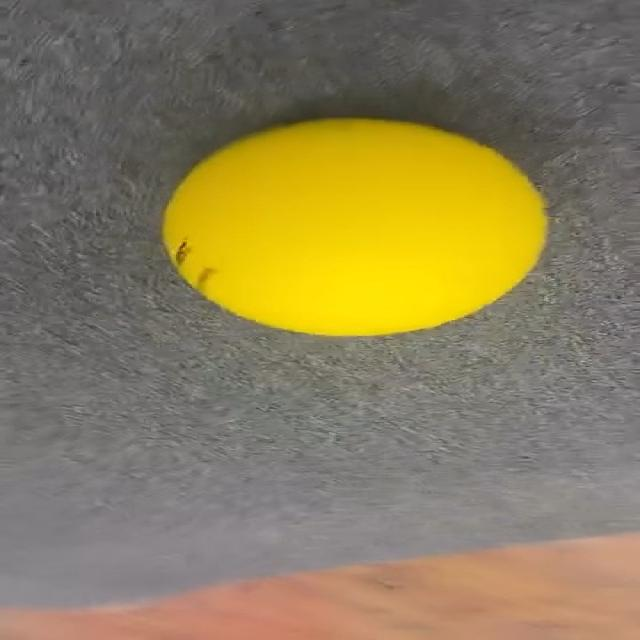Fuels: (164, 119, 544, 335)
